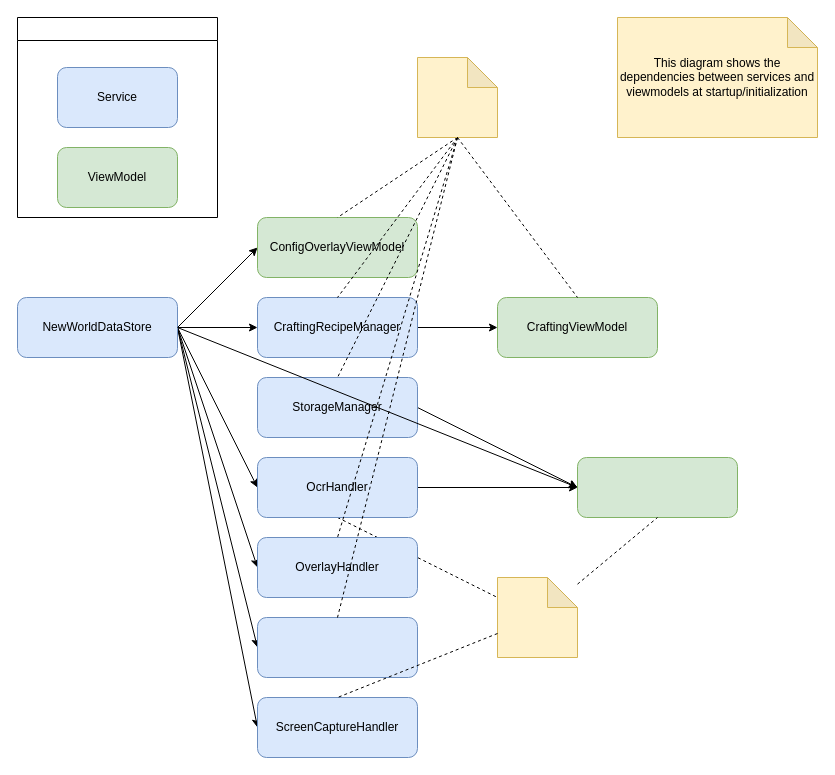
Image size: 835x775. Some labels were removed from this diagram. The box of each missing label's shape, as (x1, y1, x2, y2) in pixels:
Init method started when required services are ready: (416, 56, 498, 138)
Legend: (16, 16, 218, 218)
Some methods are skipped until required services are ready: (496, 576, 578, 658)
StorageViewModel: (576, 456, 738, 518)
VersionManager: (256, 616, 418, 678)
